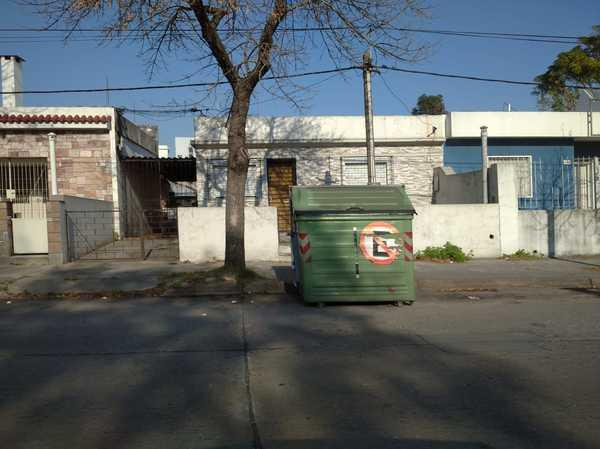Trash: (292, 186, 415, 304)
